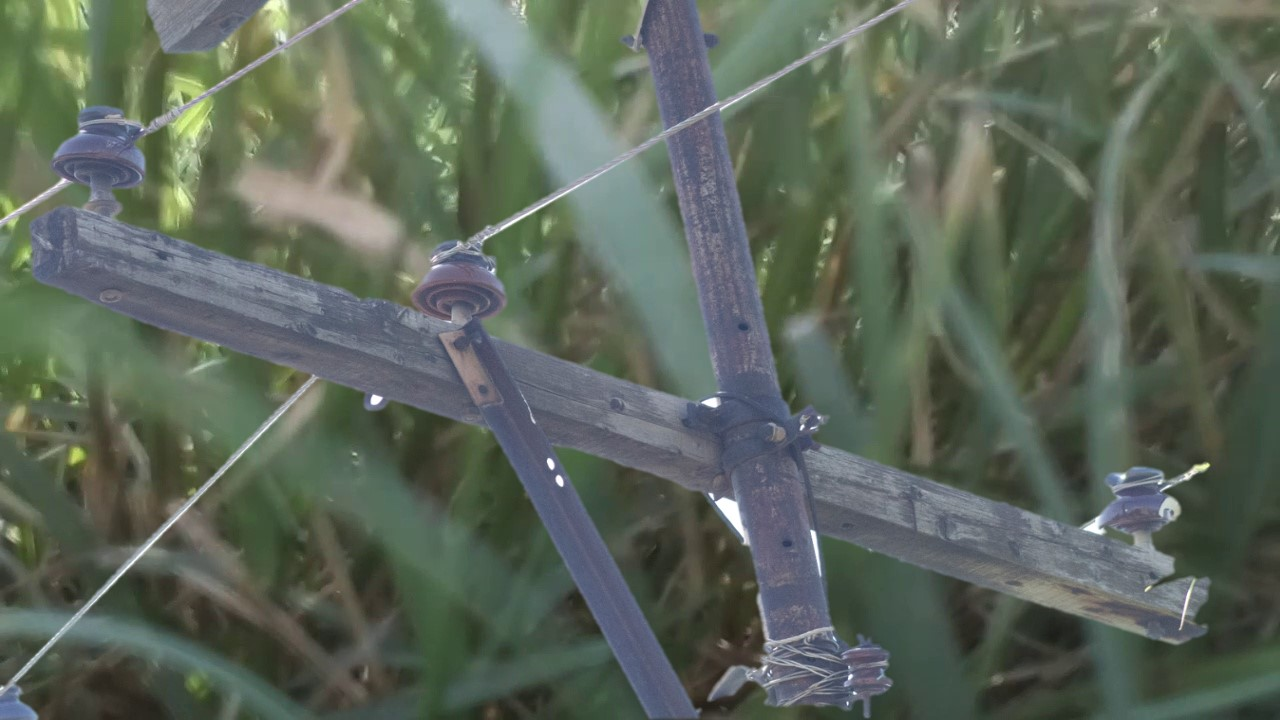defect_pin: (1097, 455, 1193, 539)
insulator_pin: (47, 95, 154, 198), (411, 239, 509, 322)
